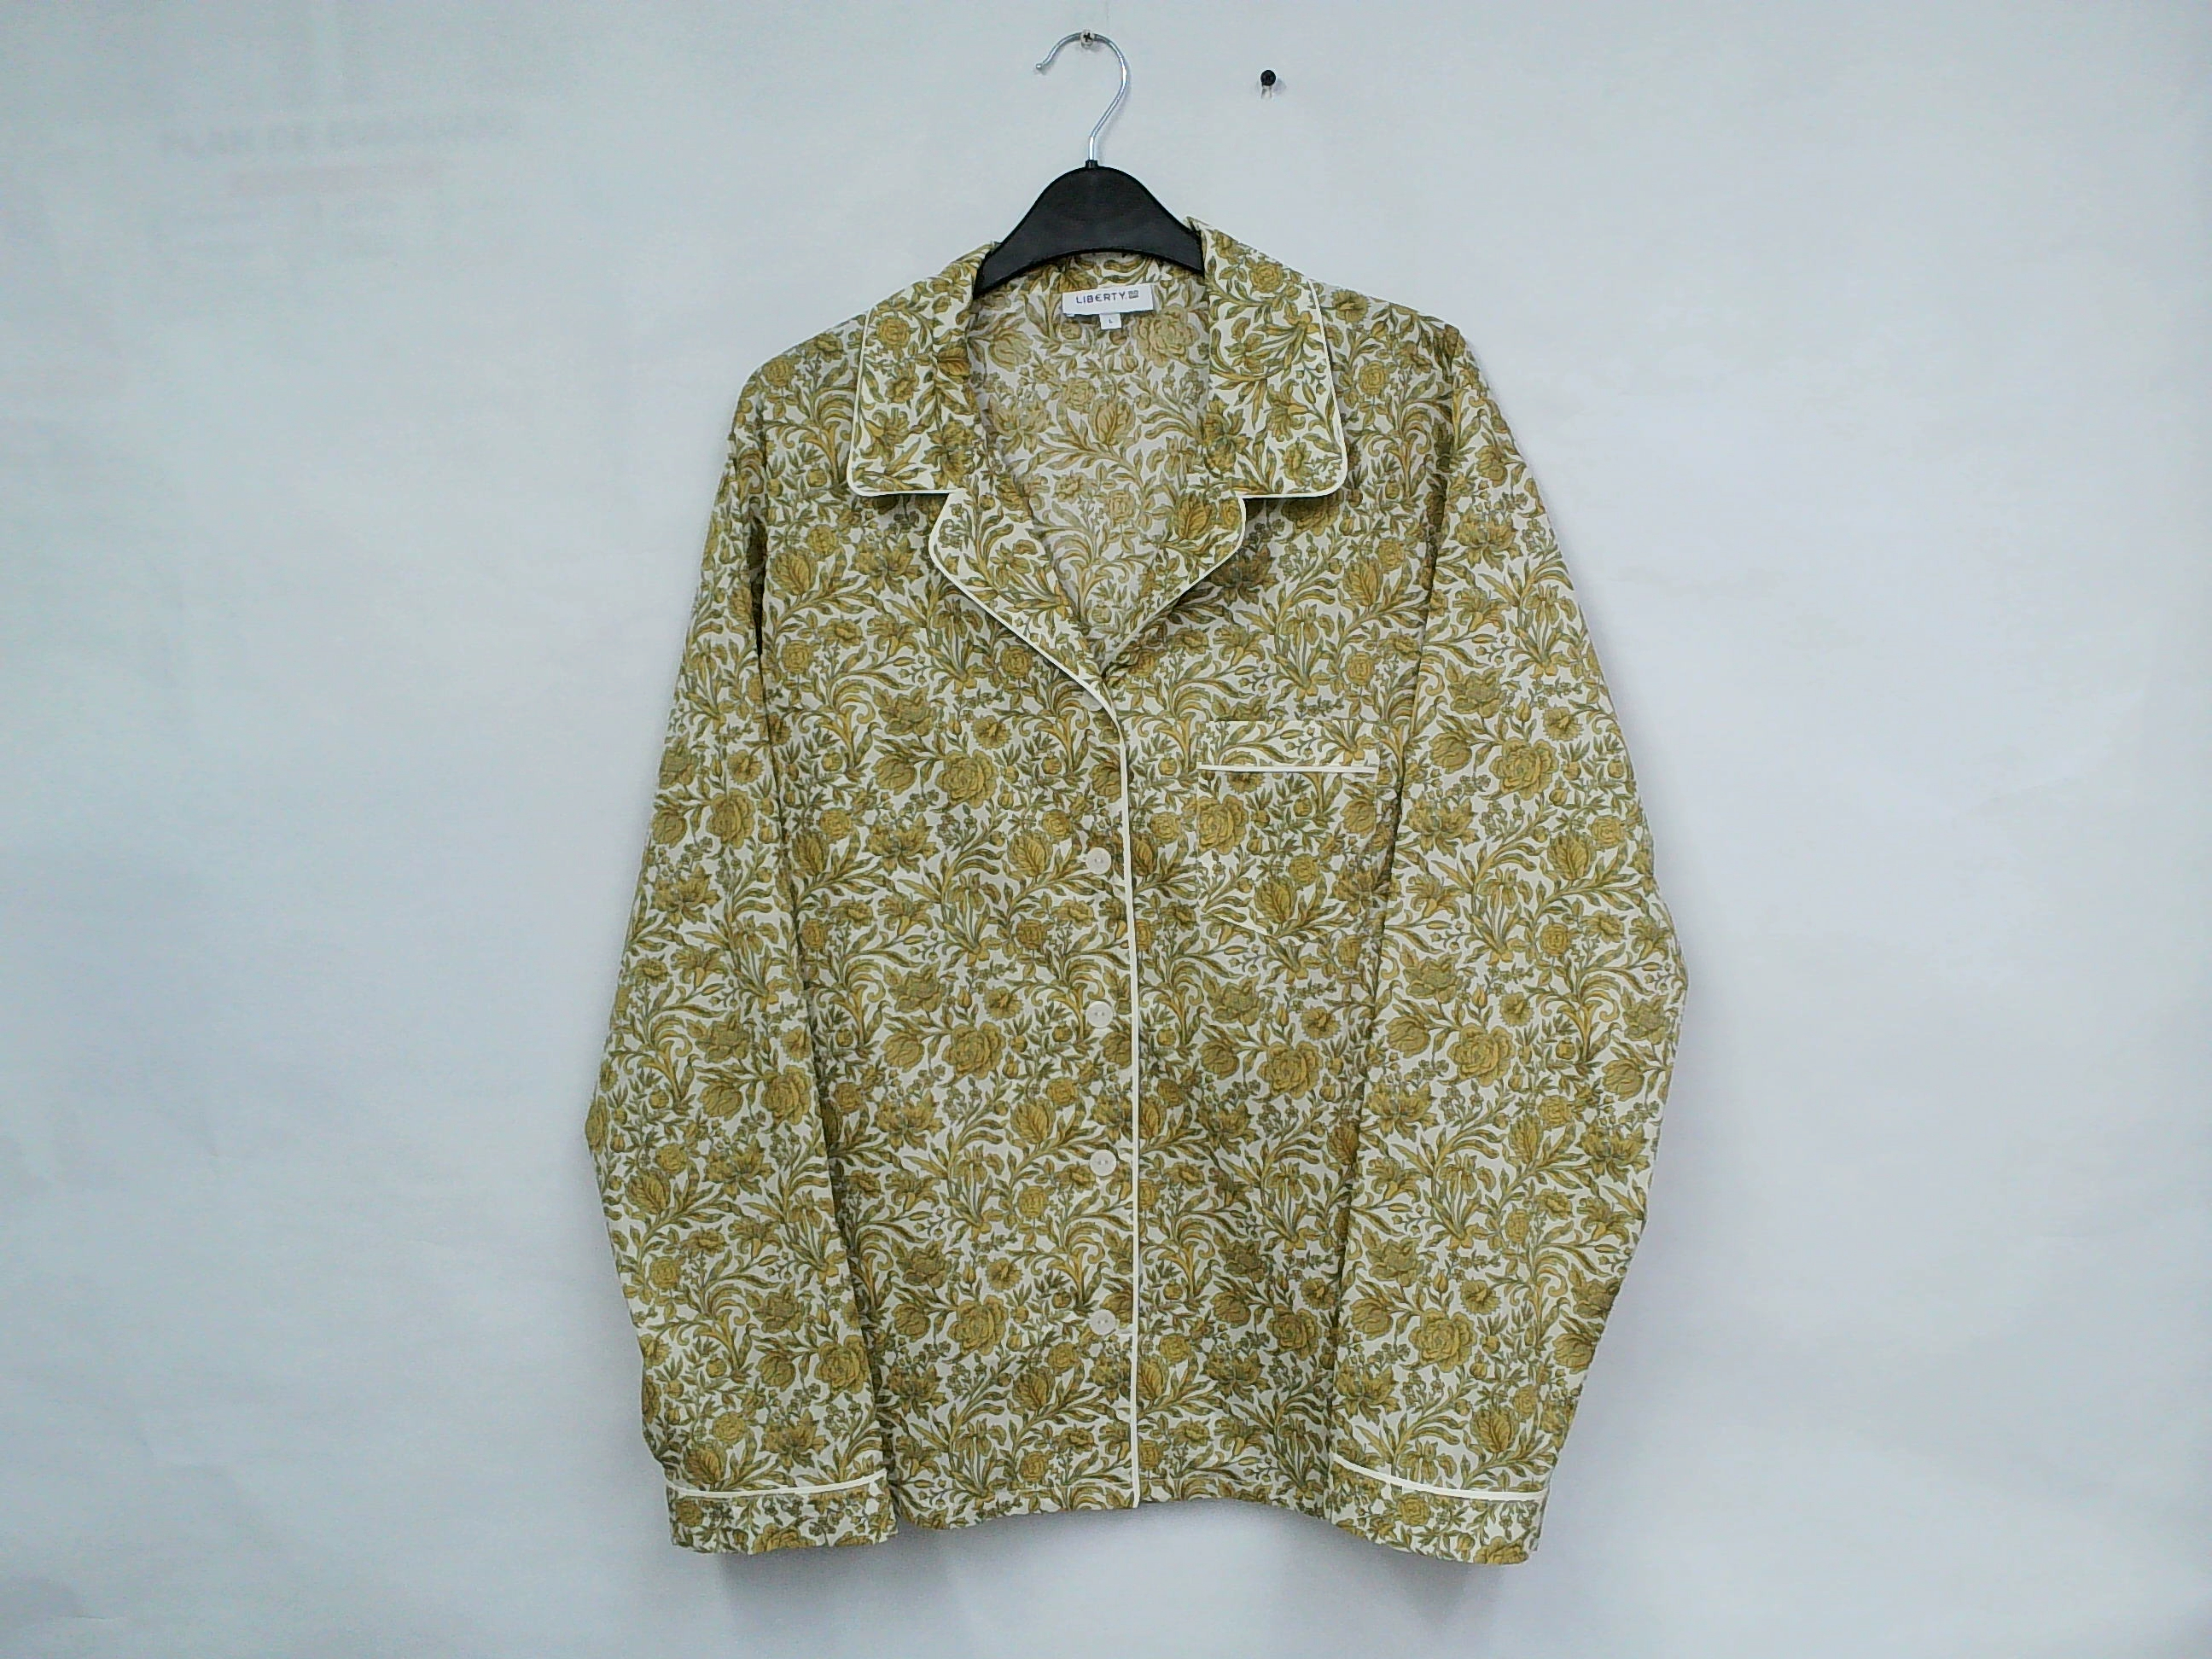seam: (1320, 1424, 1559, 1525), (657, 1441, 897, 1521)
